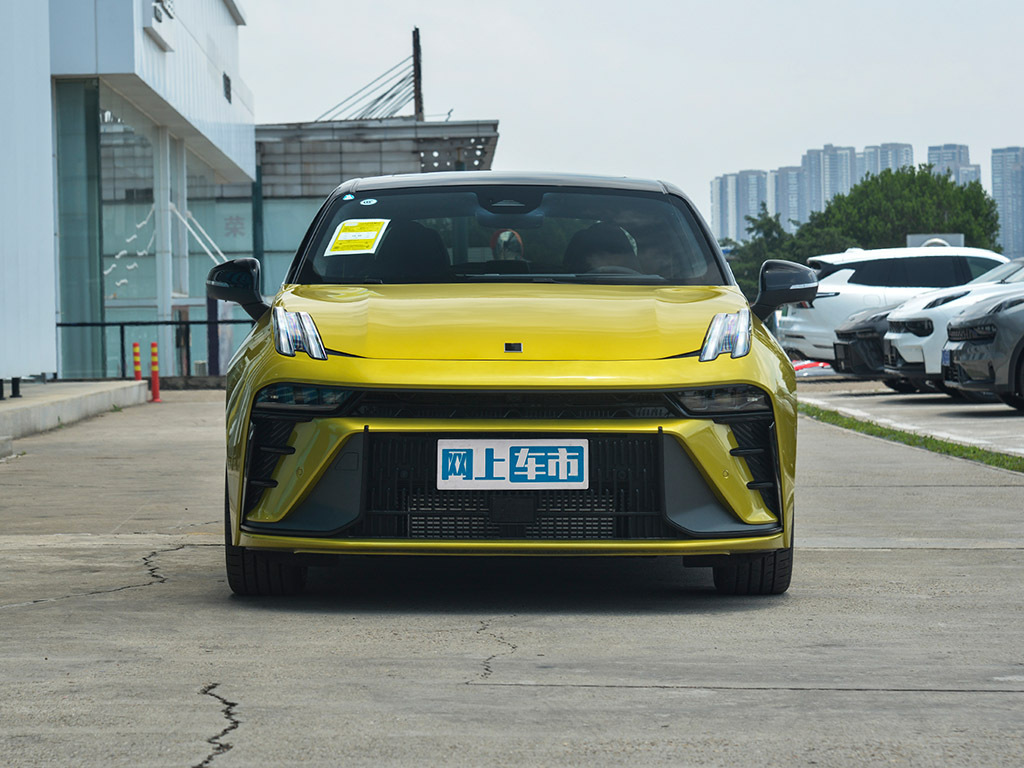LINK&CO: (505, 343, 521, 351)
